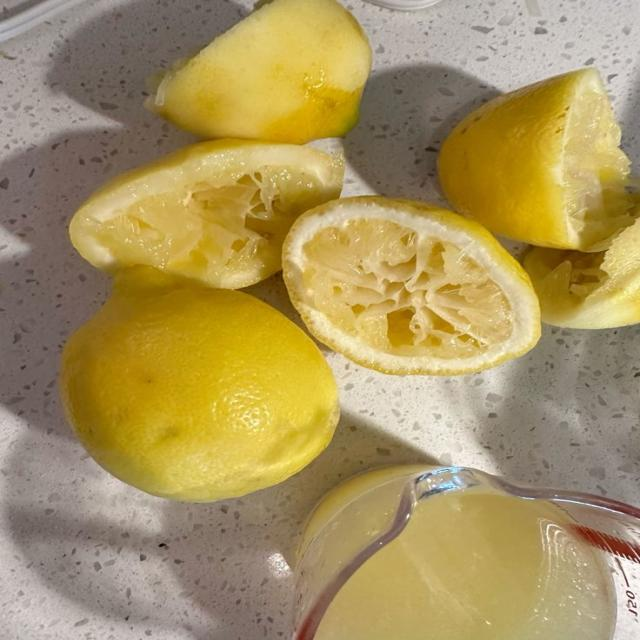lemon: (60, 266, 338, 501), (283, 197, 539, 374), (70, 140, 343, 288), (440, 69, 631, 250), (147, 0, 372, 142), (524, 221, 639, 328)
